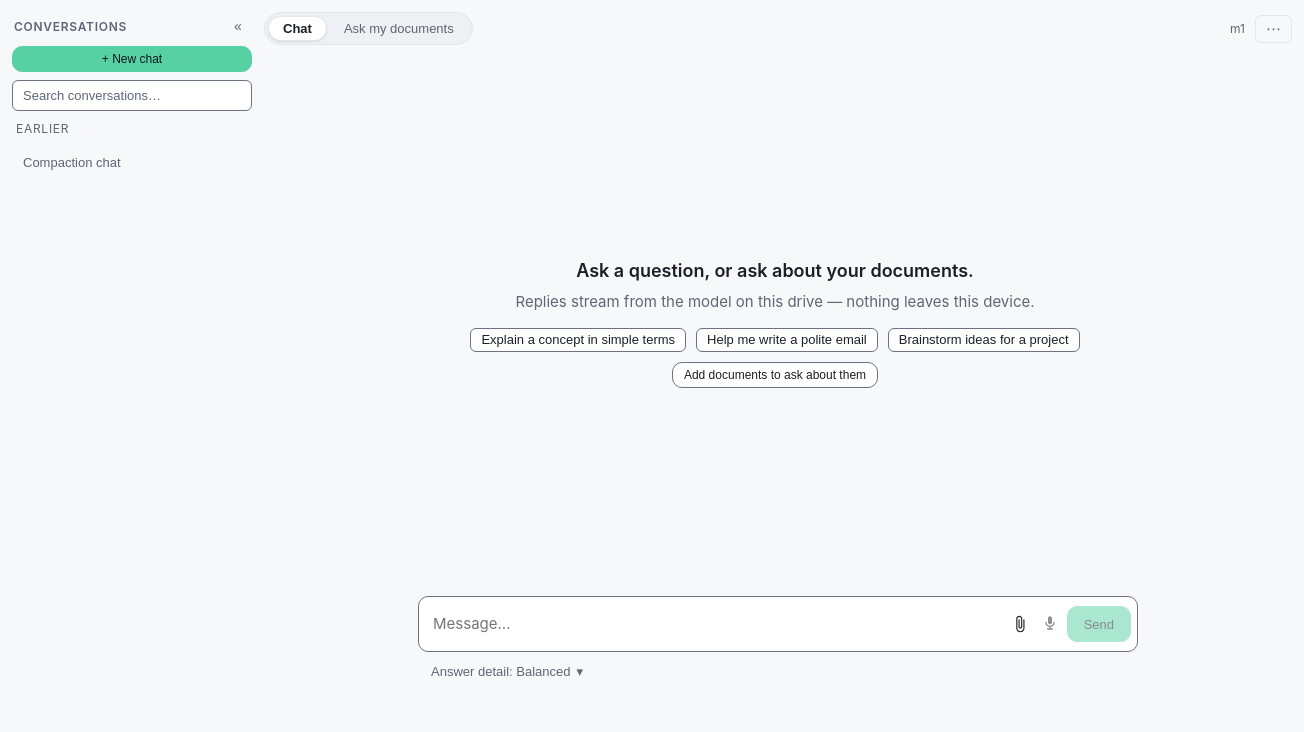
Test: ChatScreen — transcript summary marker (§5.3, D-b) › renders the marker before the boundary message and expands to the summary text
Check: the text "Compaction chat" is shown, box [23,154,121,170]
Click the button with class "chat-conv" at (116, 162), box [12,142,221,182]
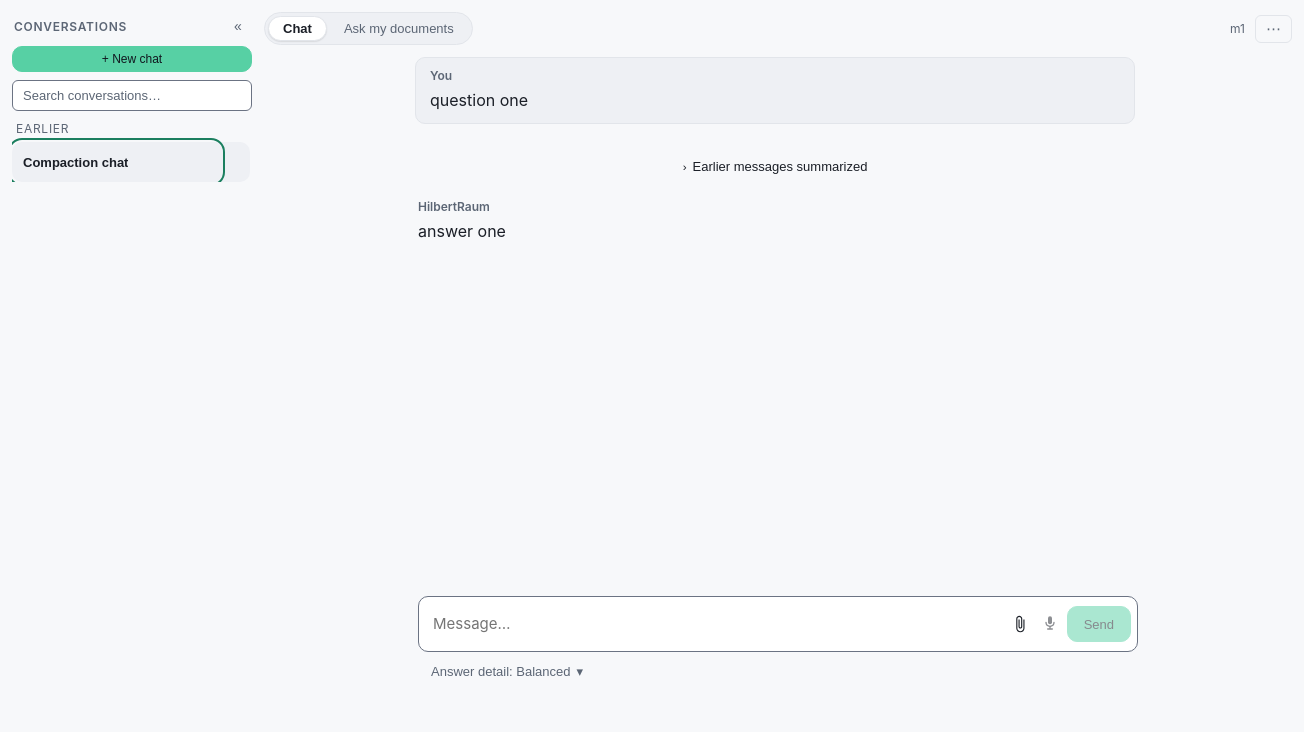
Check: the text "SUMMARYBODY" is not shown
Click the button "› Earlier messages summarized" at (775, 166), box [673,154,877,178]
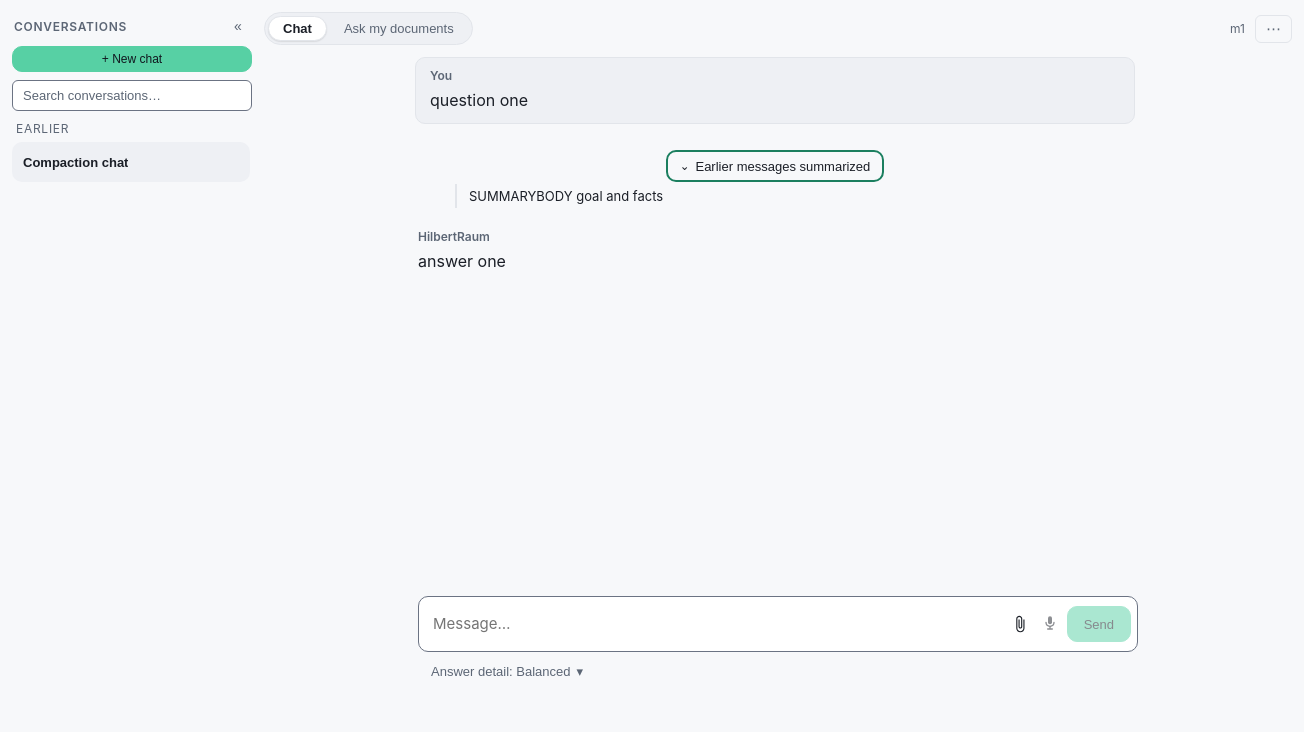
Check: the text "SUMMARYBODY goal and facts" is shown, box [455,184,1095,208]
